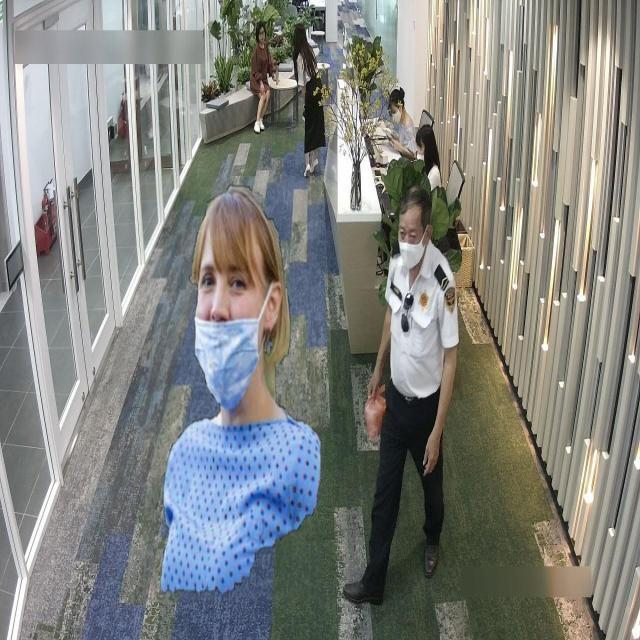hairnet: (193, 292, 263, 406)
